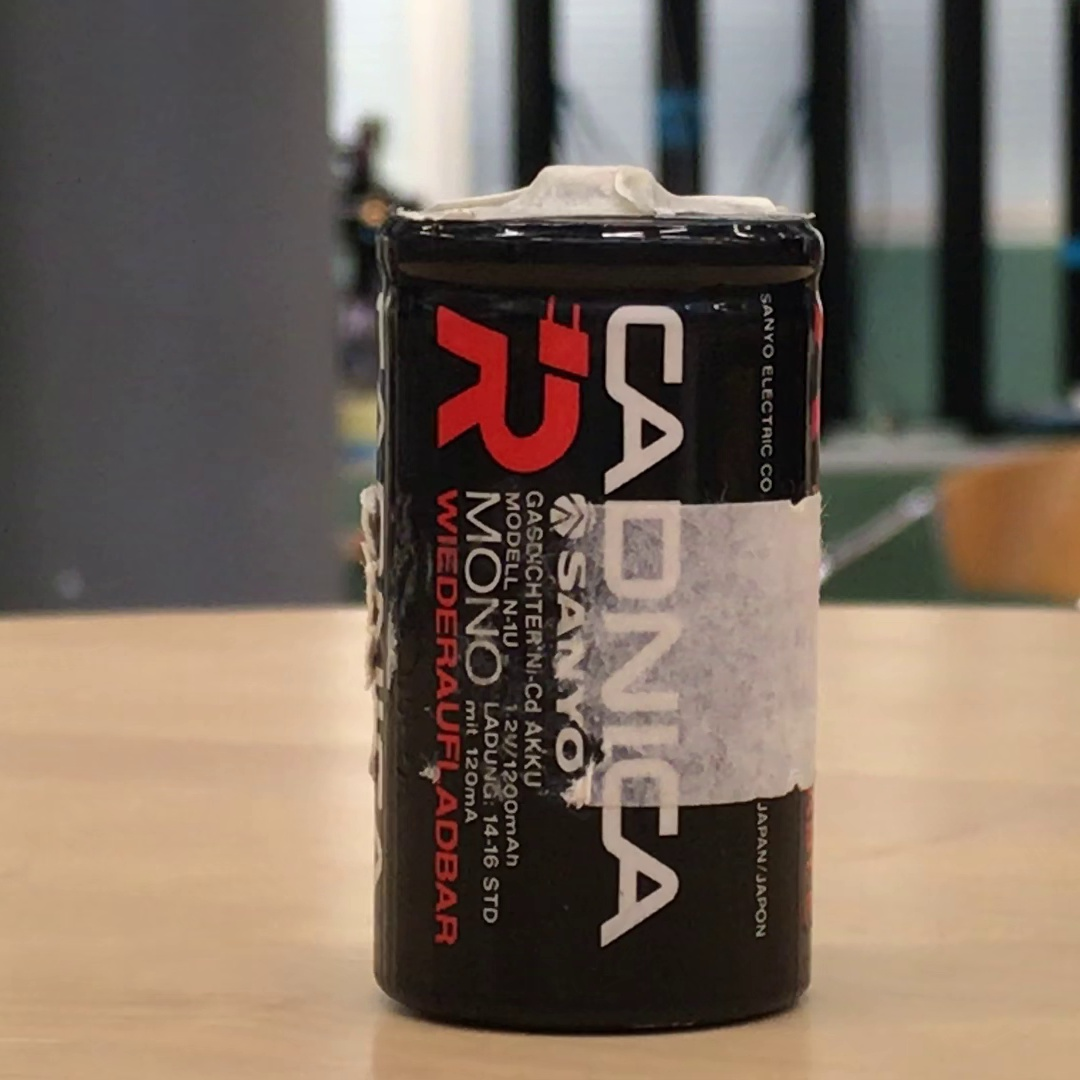keyword: (525, 637, 551, 721)
